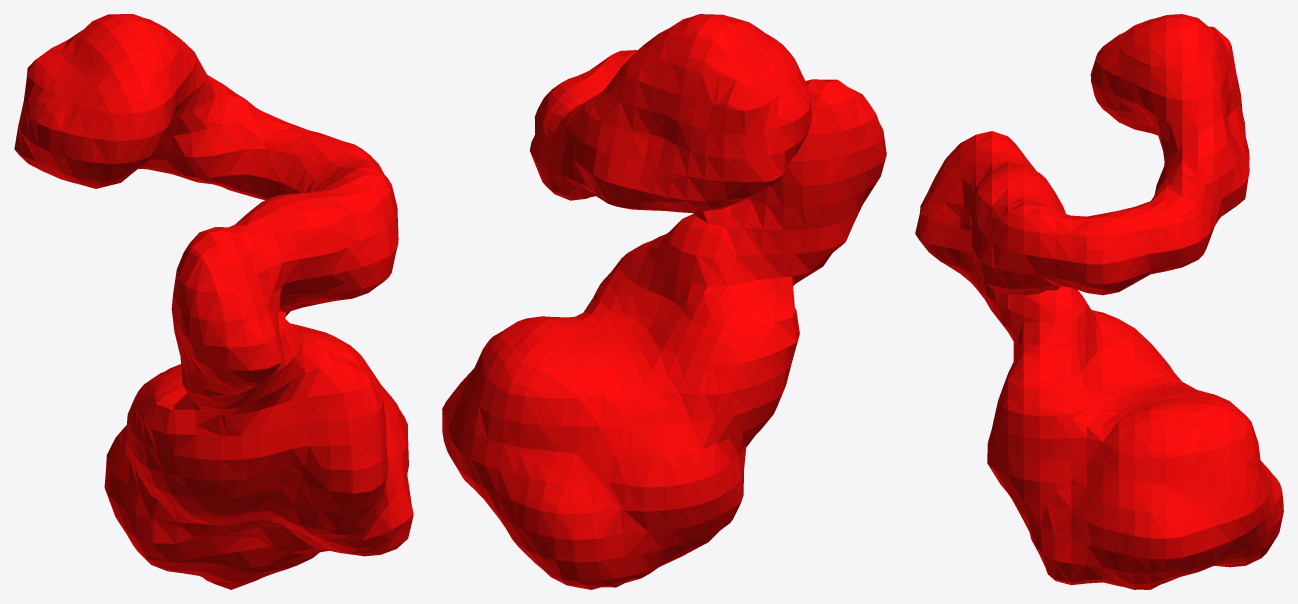
Rendered from puuR_coarse.dae.
3 views of the same model, side by side, from view 1: azimuth 30°, elevation 25°; view 2: azimuth 150°, elevation 25°; view 3: azimuth 270°, elevation 25° (orthographic). The views are drawn at different scales.
Visible parts, largest first — view 1: puuR; view 2: puuR; view 3: puuR.
Boxes of the visible parts, box(x1,y1,x2,y2) form: puuR: box(14, 14, 413, 589); puuR: box(442, 14, 886, 589); puuR: box(915, 14, 1283, 589).
Size of the model in its own units: 47.94 by 74.5 by 47.84.
